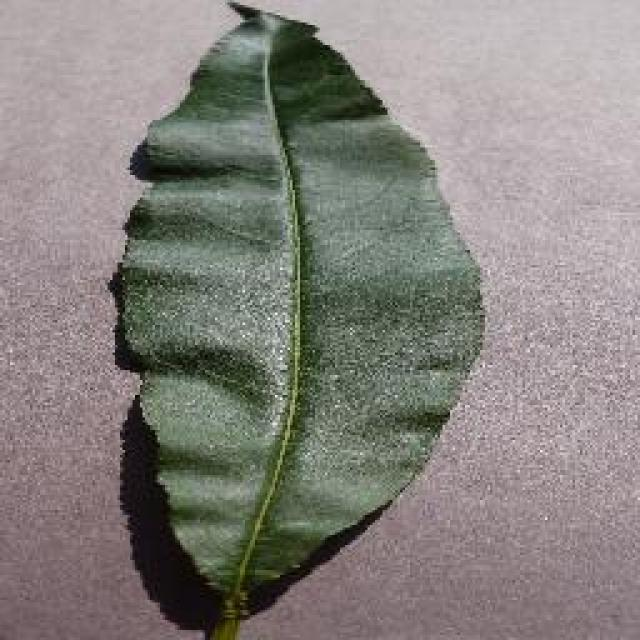Pea_healthy: (124, 28, 486, 534)
